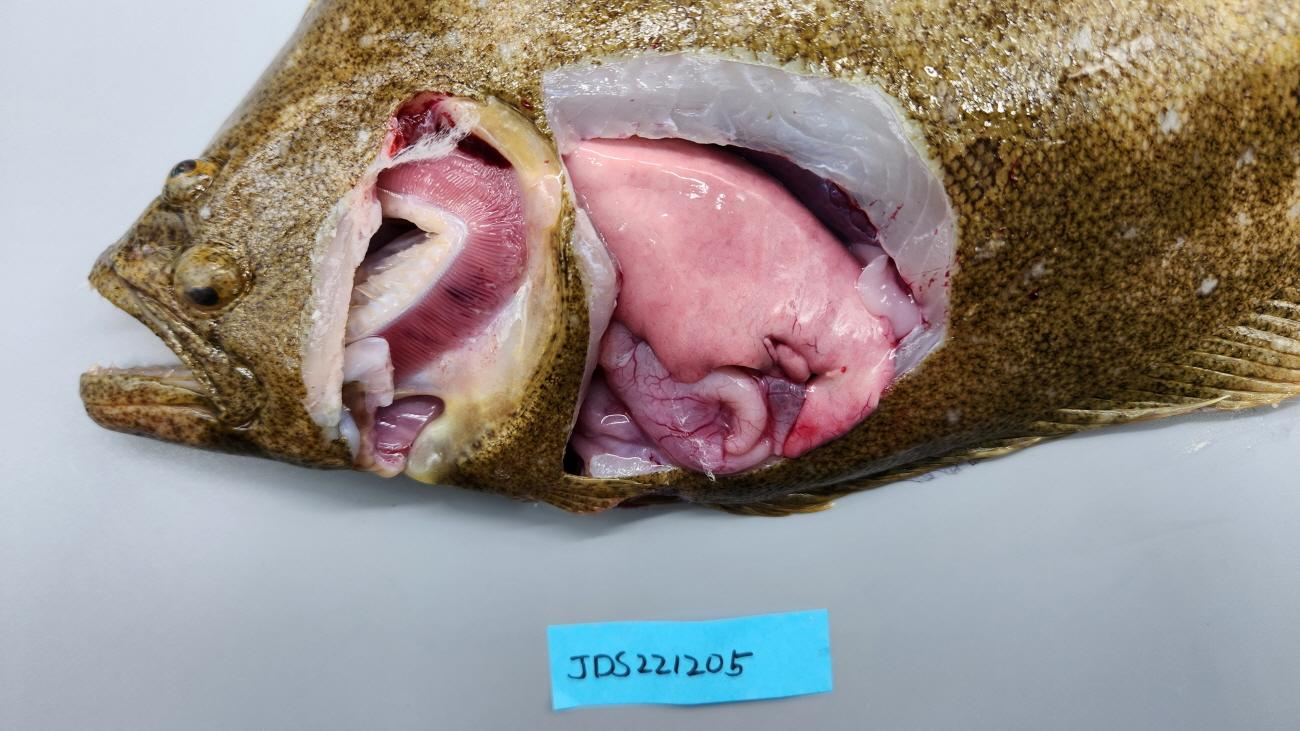SPGIN: (432, 155, 529, 344)
SPGIP: (402, 149, 524, 316)
